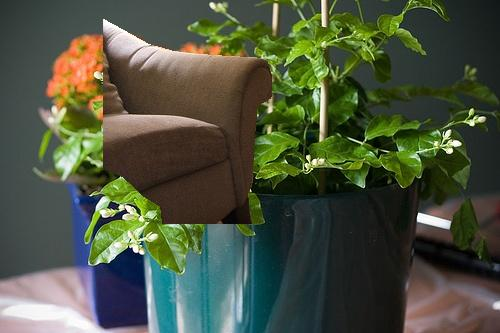tampered: (104, 20, 272, 224)
